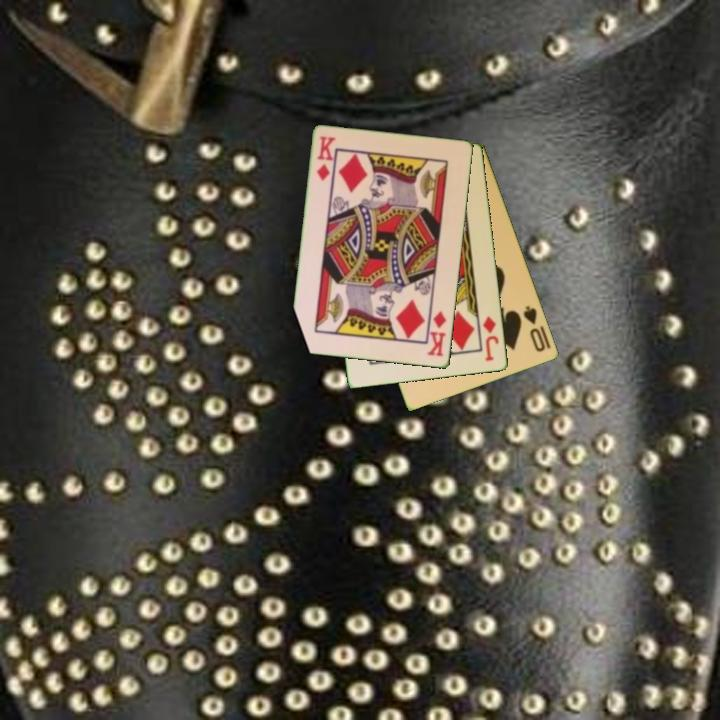10s: (520, 302, 548, 355)
Jd: (479, 313, 502, 364)
Kd: (424, 308, 450, 360), (314, 133, 338, 184)
